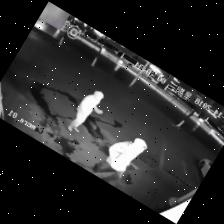person: (92, 138, 146, 178), (67, 91, 102, 132)
